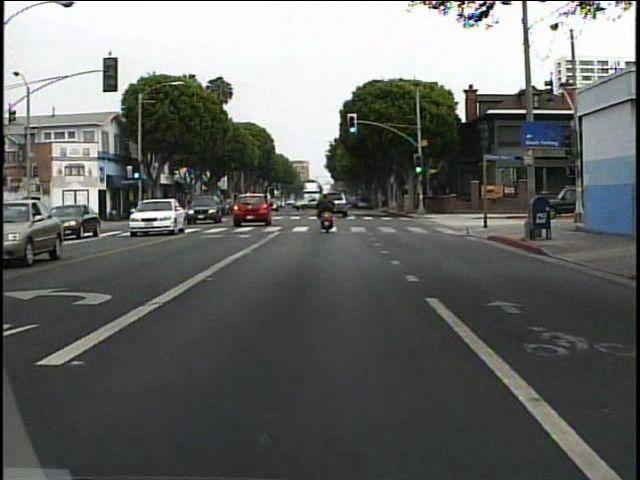person: (312, 186, 343, 242)
